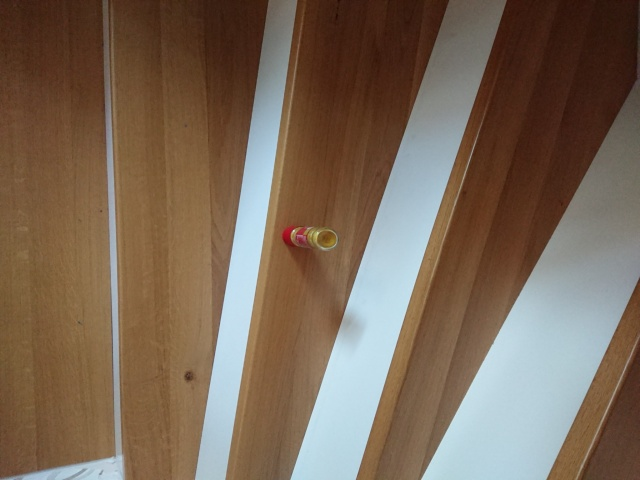Kotanyi Curry Spices Mix 70g: (281, 223, 341, 255)
